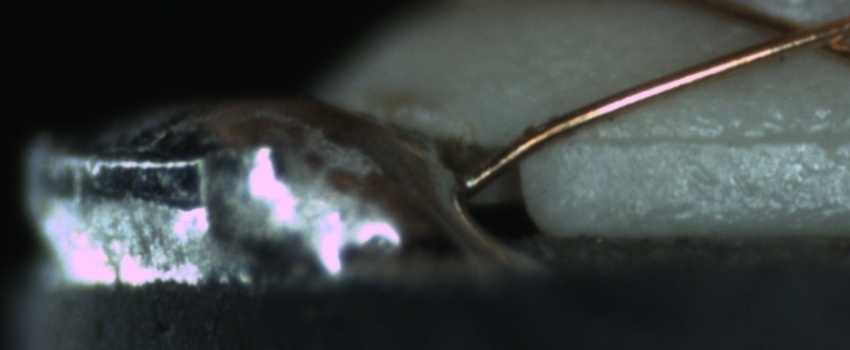CL: (749, 5, 848, 63)
DL: (575, 105, 850, 170)
